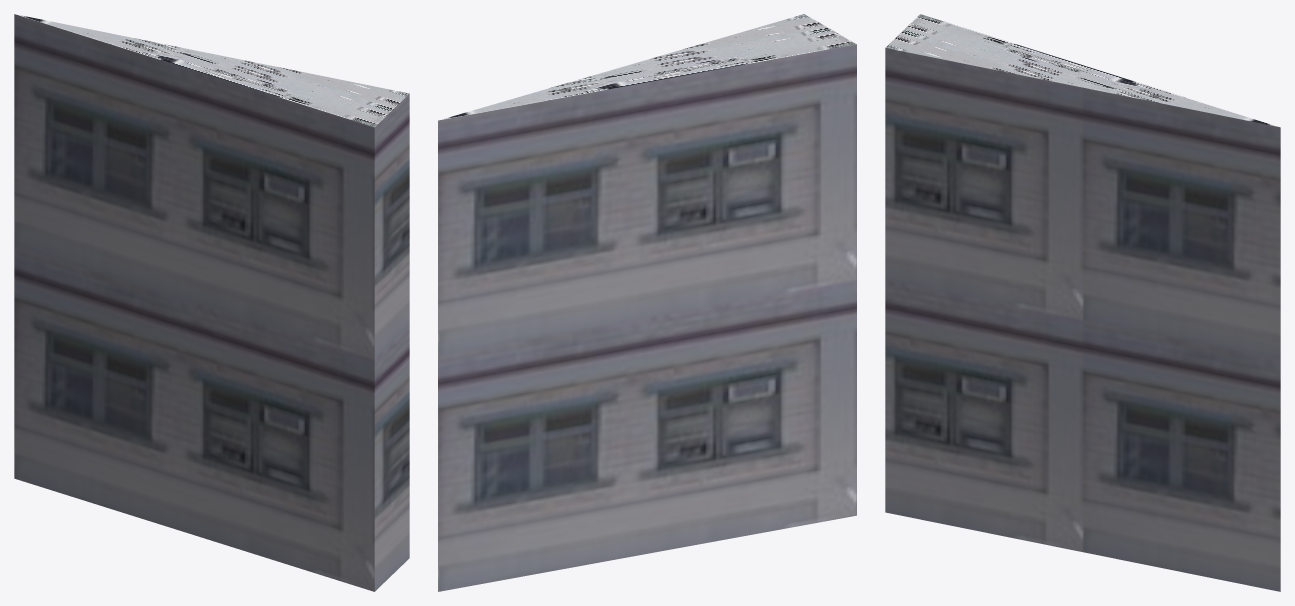
The model's file is ResTex__2079.fbx.
3 views of the same model, side by side, from view 1: azimuth 90°, elevation 25°; view 2: azimuth 150°, elevation 25°; view 3: azimuth 270°, elevation 25° (orthographic).
Parts seen in each view (by area): view 1: CityEngineMaterial_1_m, CityEngineMaterial_4_m; view 2: CityEngineMaterial_1_m, CityEngineMaterial_4_m; view 3: CityEngineMaterial_1_m, CityEngineMaterial_4_m.
Boxes of the visible parts, box(x1,y1,x2,y2) form: CityEngineMaterial_1_m: box(14, 14, 409, 591); CityEngineMaterial_4_m: box(16, 14, 409, 127); CityEngineMaterial_1_m: box(438, 44, 856, 591); CityEngineMaterial_4_m: box(441, 14, 856, 119); CityEngineMaterial_1_m: box(885, 48, 1280, 591); CityEngineMaterial_4_m: box(885, 14, 1278, 126).
Bounding box in the file's own units: 3.14 × 6 × 4.63.
Materials: 2 (2 with a texture image).
